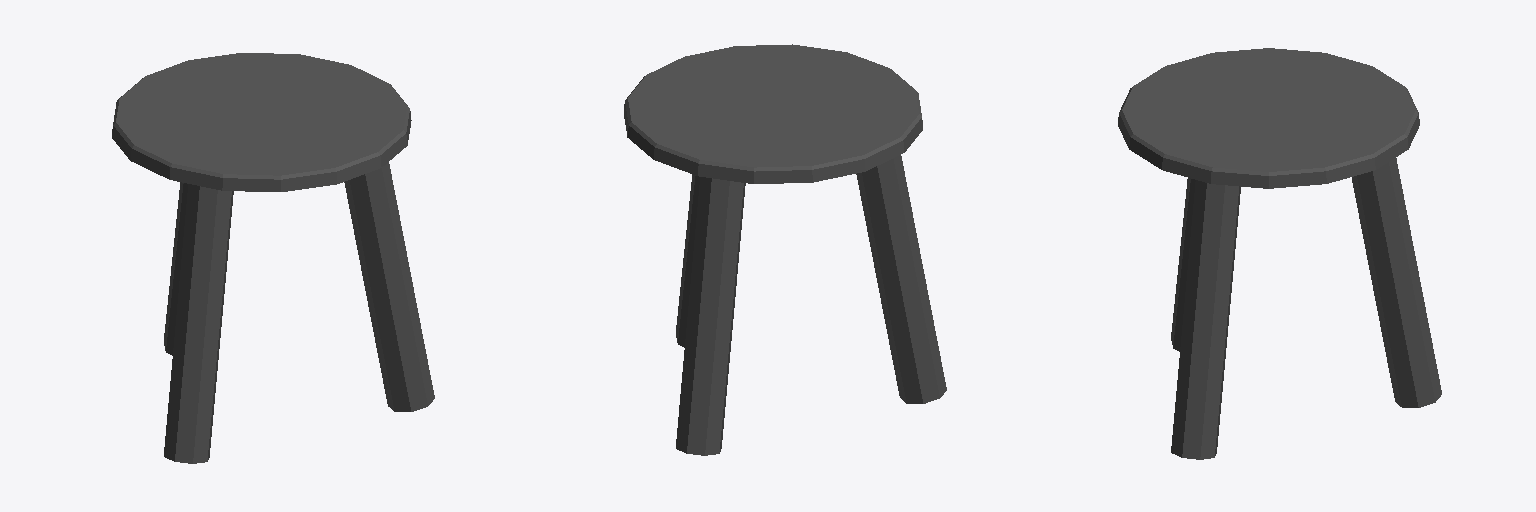
File: stool.obj
3 views of the same model, side by side, from view 1: azimuth 30°, elevation 25°; view 2: azimuth 150°, elevation 25°; view 3: azimuth 270°, elevation 25° (orthographic).
Visible parts, largest first — view 1: Mesh.017_stool2.001; view 2: Mesh.017_stool2.001; view 3: Mesh.017_stool2.001.
Part boxes in pixels (bbox=[...]): Mesh.017_stool2.001: bbox=[112, 53, 434, 463]; Mesh.017_stool2.001: bbox=[624, 44, 946, 455]; Mesh.017_stool2.001: bbox=[1118, 48, 1441, 459].
Bounding box in the file's own units: 0.3924 × 0.4135 × 0.4171.